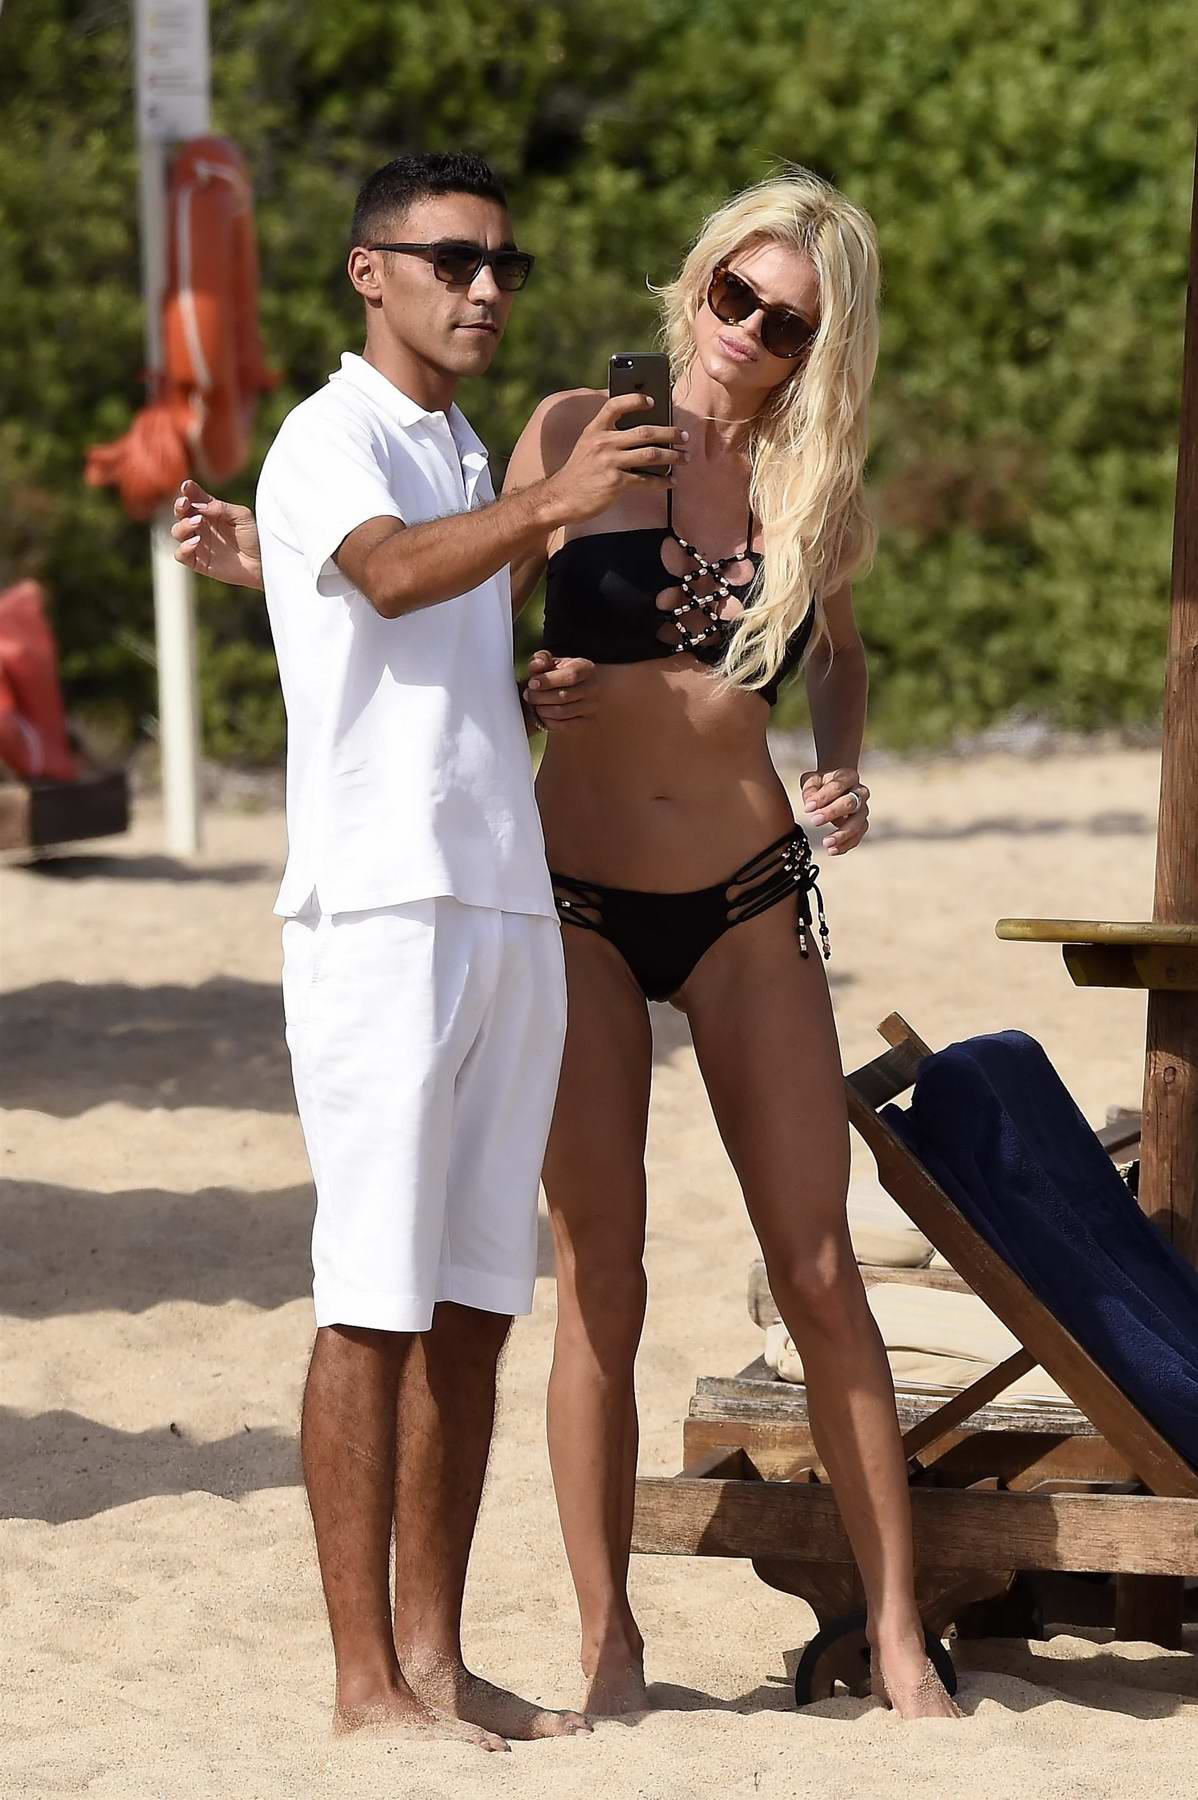Person: (171, 167, 974, 1723), (244, 138, 709, 1744)
